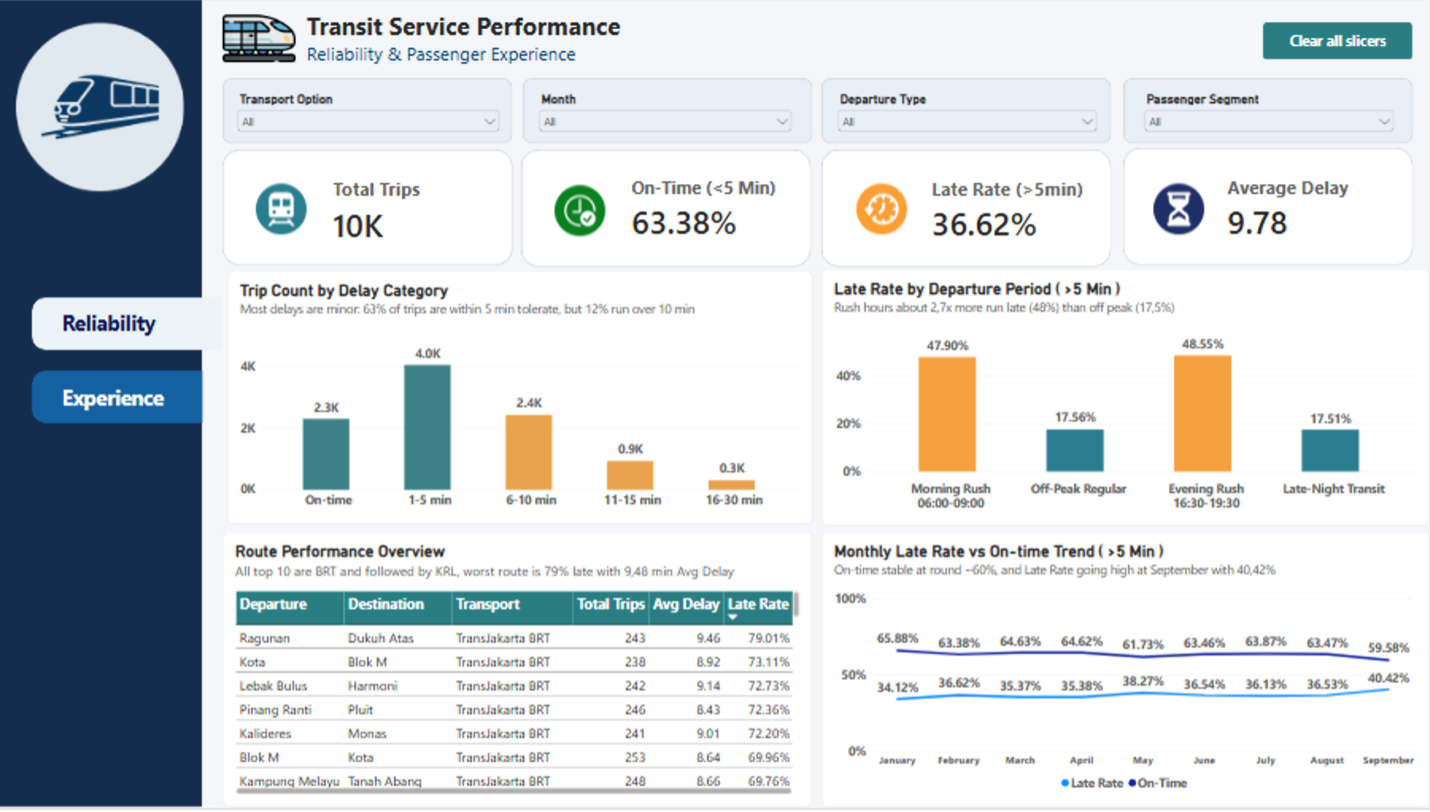

Layout of this report page (visuals, bound fields, positions):
{"tool":"powerbi","page":{"name":"Reliability Performance","canvas":[1920,1080],"ordinal":1},"visuals":[{"type":"shape","box":[0,0,275.6,1079.7],"z":0},{"type":"shape","box":[275.4,0,1644.4,1079.7],"z":1000},{"type":"textbox","box":[415,13.4,502.9,55.5],"z":2000},{"type":"textbox","box":[415,55.5,418.8,95.6],"z":3000},{"type":"shape","box":[301.6,199.6,388.7,155],"z":4000},{"type":"shape","box":[302.2,103.3,388.2,88],"z":8000},{"type":"slicer","fields":{"Values":["transport_analyse.transit_mode"]},"box":[316.5,121.1,361.1,70.1],"z":9000},{"type":"shape","box":[703.7,103.3,388.2,88],"z":10000},{"type":"shape","box":[1105.3,103.3,388.2,88],"z":11000},{"type":"shape","box":[1508.8,103.3,388.2,88],"z":12000},{"type":"shape","box":[1508.8,198.9,388.2,156.8],"z":13000},{"type":"cardVisual","fields":{"Data":["CountNonNull(transport_analyse.trip_id)"]},"box":[433.3,237.9,180.5,89.2],"z":14000},{"type":"columnChart","title":"Trip Count by Delay Category","fields":{"Category":["transport_analyse.delay_category"],"Y":["CountNonNull(transport_analyse.trip_id)"]},"box":[307.9,361.4,784.1,340.4],"z":15000},{"type":"cardVisual","fields":{"Data":["Avg(transport_analyse.delay_minutes)"]},"box":[1633.3,231.5,220.9,95.6],"z":16000},{"type":"shape","box":[1104.4,199.6,388.2,156.8],"z":17000},{"type":"shape","box":[703,199.6,388.2,156.8],"z":18000},{"type":"cardVisual","fields":{"Data":["transport_analyse.On-Time"]},"box":[834.7,231.5,250.6,97.7],"z":19000},{"type":"image","box":[346.2,225.1,68,108.3],"z":20000},{"type":"image","box":[747.6,227.3,68,108.3],"z":21000},{"type":"image","box":[1151.2,225.1,68,108.3],"z":22000},{"type":"cardVisual","fields":{"Data":["transport_analyse.Late_Significant_Late"]},"box":[1236.1,235.8,242.1,91.3],"z":23000},{"type":"image","box":[1550.4,225.1,68,108.3],"z":24000},{"type":"tableEx","title":"Route Performance Overview","fields":{"Values":["transport_analyse.origin_station","transport_analyse.destination_station","transport_analyse.transit_mode","transport_analyse.trip_id","Avg(transport_analyse.delay_minutes)","transport_analyse.Late_Significant_Late"]},"box":[302.2,711.4,789.8,369.1],"z":25001},{"type":"columnChart","title":"Late Rate by Departure Period ( >5 Min )","fields":{"Category":["transport_analyse.peak_hour_category"],"Y":["transport_analyse.Late_Significant_Late"]},"box":[1105.3,359.5,814.7,344.2],"z":25002},{"type":"lineChart","title":"Monthly Late Rate vs On-time Trend ( >5 Min )","fields":{"Category":["transport_analyse.travel_date.Variation.Date Hierarchy.Month"],"Y":["transport_analyse.Late_Significant_Late","transport_analyse.On-Time"]},"box":[1105.3,711.4,814.7,369.1],"z":25003},{"type":"slicer","fields":{"Values":["transport_analyse.travel_date.Variation.Date Hierarchy.Month"]},"box":[722.1,121.1,348.3,80.7],"z":25004},{"type":"slicer","fields":{"Values":["transport_analyse.peak_hour_category"]},"box":[1121.4,121.1,356.8,91.3],"z":25005},{"type":"slicer","fields":{"Values":["transport_analyse.passenger_segment"]},"box":[1533.5,121.1,344.1,101.9],"z":25006},{"type":"actionButton","box":[1697,29.7,200,50],"z":25007},{"type":"image","box":[25.5,12.7,225.1,261.2],"z":25008},{"type":"shape","box":[46.7,397.2,254.9,70.1],"z":25009},{"type":"textbox","box":[87.1,412,312.2,72.2],"z":25010},{"type":"shape","box":[46.7,497,229.4,70.1],"z":25011},{"type":"textbox","box":[87.1,514,189,72.2],"z":25012},{"type":"image","box":[302.2,0,97.5,103.3],"z":25013}]}

Visuals, with their boxes in screenshot pixels (x1, y1, x2, y2), scaled from the page's 1920x1080 canvas onto the 1430x812 screenshot:
shape: <box>0,0,205,811</box>
shape: <box>205,0,1429,811</box>
textbox: <box>309,10,684,52</box>
textbox: <box>309,42,621,114</box>
shape: <box>225,150,514,267</box>
shape: <box>225,78,514,144</box>
slicer - transport_analyse.transit_mode: <box>236,91,505,144</box>
shape: <box>524,78,813,144</box>
shape: <box>823,78,1112,144</box>
shape: <box>1124,78,1413,144</box>
shape: <box>1124,150,1413,267</box>
cardVisual - CountNonNull(transport_analyse.trip_id): <box>323,179,457,246</box>
"Trip Count by Delay Category" columnChart: <box>229,272,813,528</box>
cardVisual - Avg(transport_analyse.delay_minutes): <box>1216,174,1381,246</box>
shape: <box>823,150,1112,268</box>
shape: <box>524,150,813,268</box>
cardVisual - transport_analyse.On-Time: <box>622,174,808,248</box>
image: <box>258,169,308,251</box>
image: <box>557,171,607,252</box>
image: <box>857,169,908,251</box>
cardVisual - transport_analyse.Late_Significant_Late: <box>921,177,1101,246</box>
image: <box>1155,169,1205,251</box>
"Route Performance Overview" tableEx: <box>225,535,813,811</box>
"Late Rate by Departure Period ( >5 Min )" columnChart: <box>823,270,1429,529</box>
"Monthly Late Rate vs On-time Trend ( >5 Min )" lineChart: <box>823,535,1429,811</box>
slicer - transport_analyse.travel_date.Variation.Date Hierarchy.Month: <box>538,91,797,152</box>
slicer - transport_analyse.peak_hour_category: <box>835,91,1101,160</box>
slicer - transport_analyse.passenger_segment: <box>1142,91,1398,168</box>
actionButton: <box>1264,22,1413,60</box>
image: <box>19,10,187,206</box>
shape: <box>35,299,225,351</box>
textbox: <box>65,310,297,364</box>
shape: <box>35,374,206,426</box>
textbox: <box>65,386,206,441</box>
image: <box>225,0,298,78</box>
